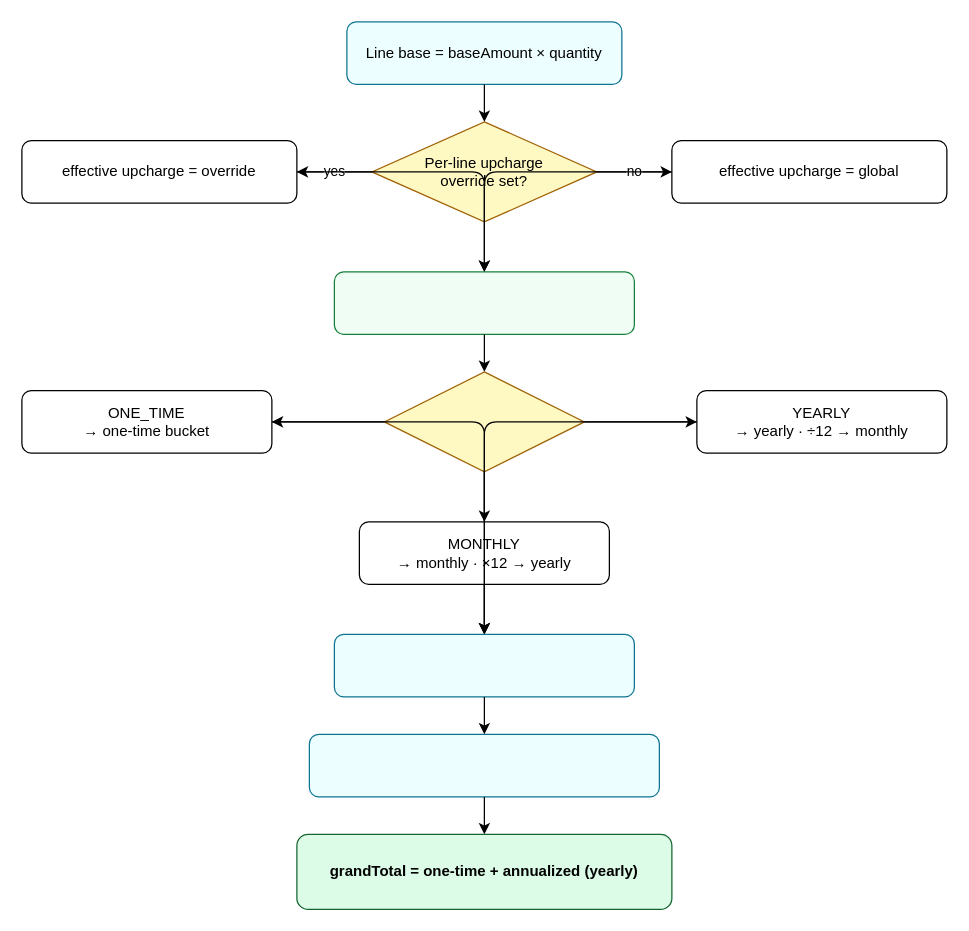
Some shapes in this 969 by 931 pixel diagram are drawn without their labels. The shapes that lost their labels are listed below. From the top down, each one's centre as x and y in pixels, then its label:
At point 483,302: "marked-up = base × (1 + up%)".
At point 483,421: "Billing period?".
At point 483,665: "Category subtotals (post-upcharge)".
At point 483,765: "Apply contingency on the upcharged subtotal".
